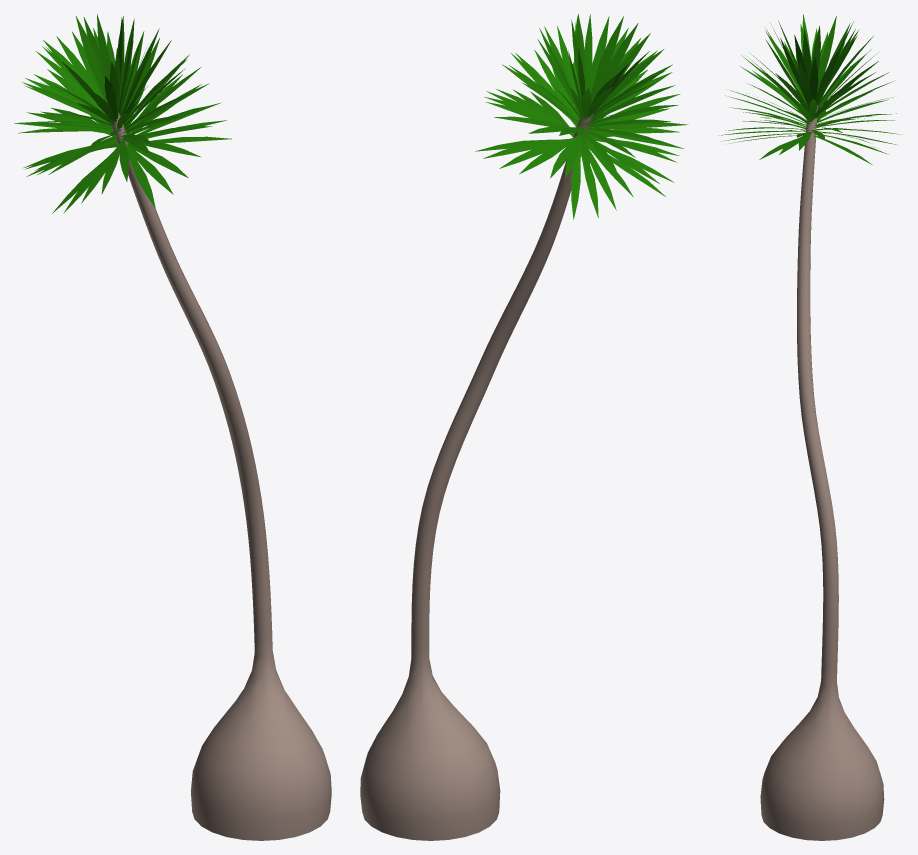
Rendered from trees_10.FBX.
3 views of the same model, side by side, from view 1: azimuth 30°, elevation 25°; view 2: azimuth 150°, elevation 25°; view 3: azimuth 270°, elevation 25° (orthographic). The views are drawn at different scales.
Visible parts, largest first — view 1: Foliage013; view 2: Foliage013; view 3: Foliage013.
Part boxes in pixels (left/top/right/bottom): Foliage013: left=14, top=14, right=331, bottom=840; Foliage013: left=360, top=14, right=688, bottom=840; Foliage013: left=718, top=14, right=900, bottom=840.
Bounding box in the file's own units: 72.84 × 192 × 44.6.
